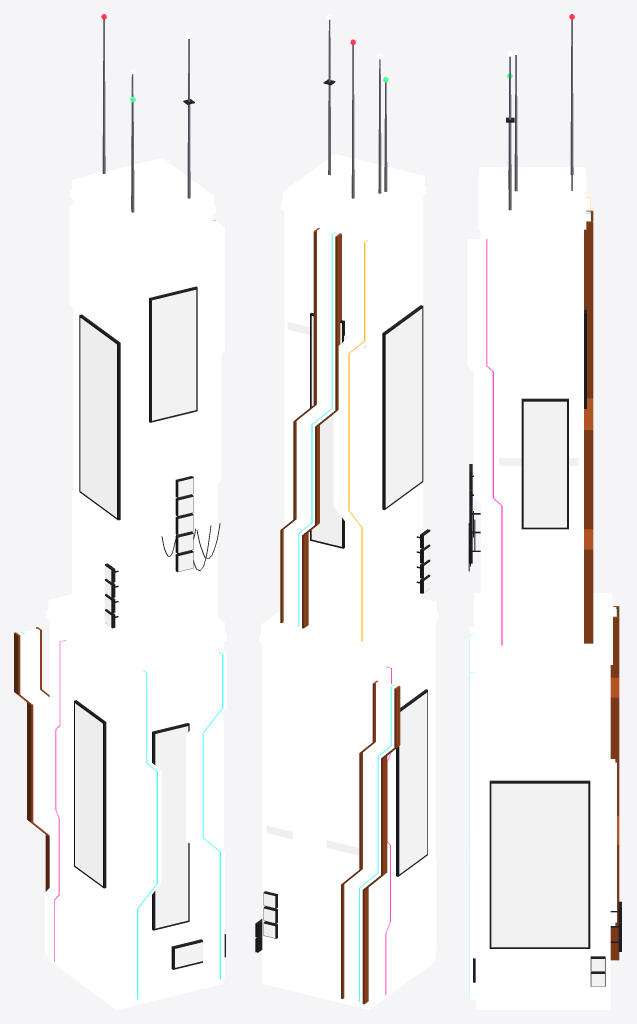
File: k_tower_c.glb
3 renders of one model, left to right at view 1: azimuth 30°, elevation 25°; view 2: azimuth 150°, elevation 25°; view 3: azimuth 270°, elevation 25°, orthographic.
Visible parts, largest first — view 1: kit_mid, kit_grey, screen_atlas, metal_dark, steel_orange, metal_light, neon_cyan, neon_magenta; view 2: kit_mid, kit_grey, screen_atlas, steel_orange, kit_hex, metal_dark, metal_light, neon_cyan, neon_amber; view 3: kit_mid, screen_atlas, kit_grey, steel_orange, metal_dark, metal_light, neon_magenta, neon_cyan.
Part boxes in pixels (x1,y1,x2,y2): kit_mid: (49,169,223,1009); kit_grey: (18,158,226,1002); screen_atlas: (75,289,202,967); metal_dark: (74,99,225,969); steel_orange: (14,627,49,891); metal_light: (102,19,190,212); neon_cyan: (21,632,223,999); neon_magenta: (54,220,215,961); kit_mid: (262,166,435,1009); kit_grey: (259,154,438,1002); screen_atlas: (264,308,430,937); steel_orange: (280,228,400,1004); kit_hex: (294,781,322,931); metal_dark: (255,79,430,952); metal_light: (328,19,387,198); neon_cyan: (298,232,393,1001); neon_amber: (348,240,367,641); kit_mid: (476,168,610,1009); screen_atlas: (491,401,604,986); kit_grey: (467,167,616,999); steel_orange: (584,210,619,960); metal_dark: (468,117,621,986); metal_light: (508,19,573,210); neon_magenta: (486,239,502,645); neon_cyan: (469,213,616,997).
Size of the model in its own units: 18.04 by 110 by 16.17.
